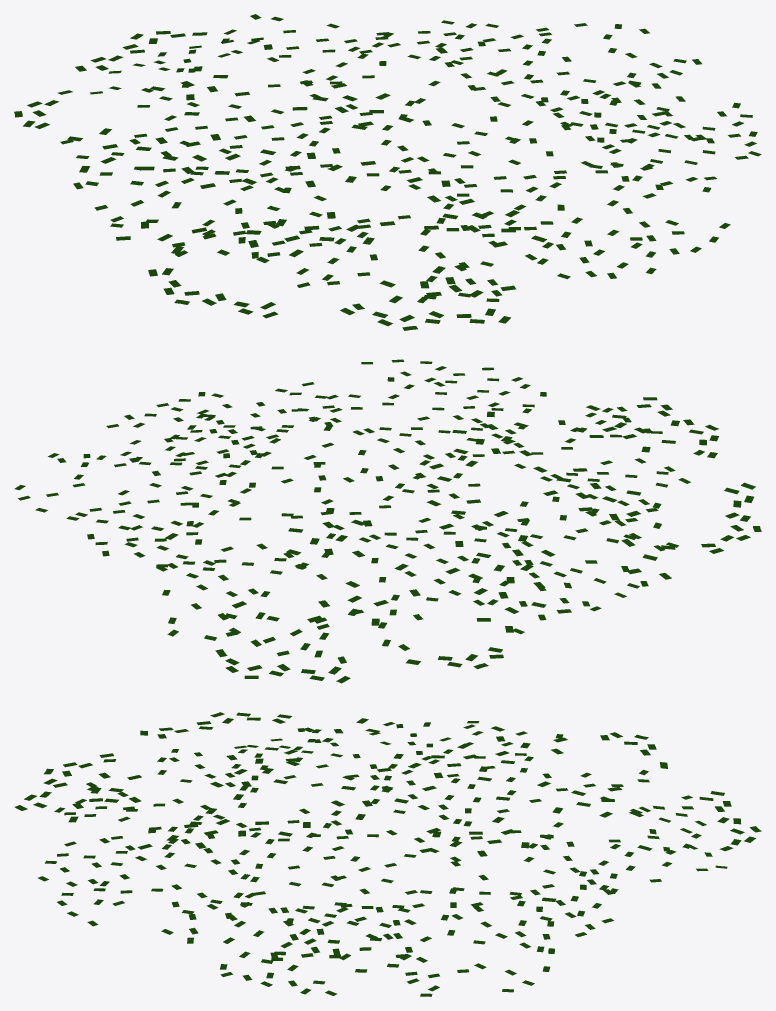
The model's file is Pizza_Origano.fbx.
3 renders of one model, top to bottom at view 1: azimuth 30°, elevation 25°; view 2: azimuth 150°, elevation 25°; view 3: azimuth 270°, elevation 25°, orthographic. The views are drawn at different scales.
Parts seen in each view (by area): view 1: 10origano; view 2: 10origano; view 3: 10origano.
Boxes of the visible parts, bbox=[...] form: 10origano: bbox=[14, 14, 761, 330]; 10origano: bbox=[14, 359, 761, 683]; 10origano: bbox=[14, 712, 761, 996].
Bounding box in the file's own units: 49.7 × 1.74 × 54.09.
